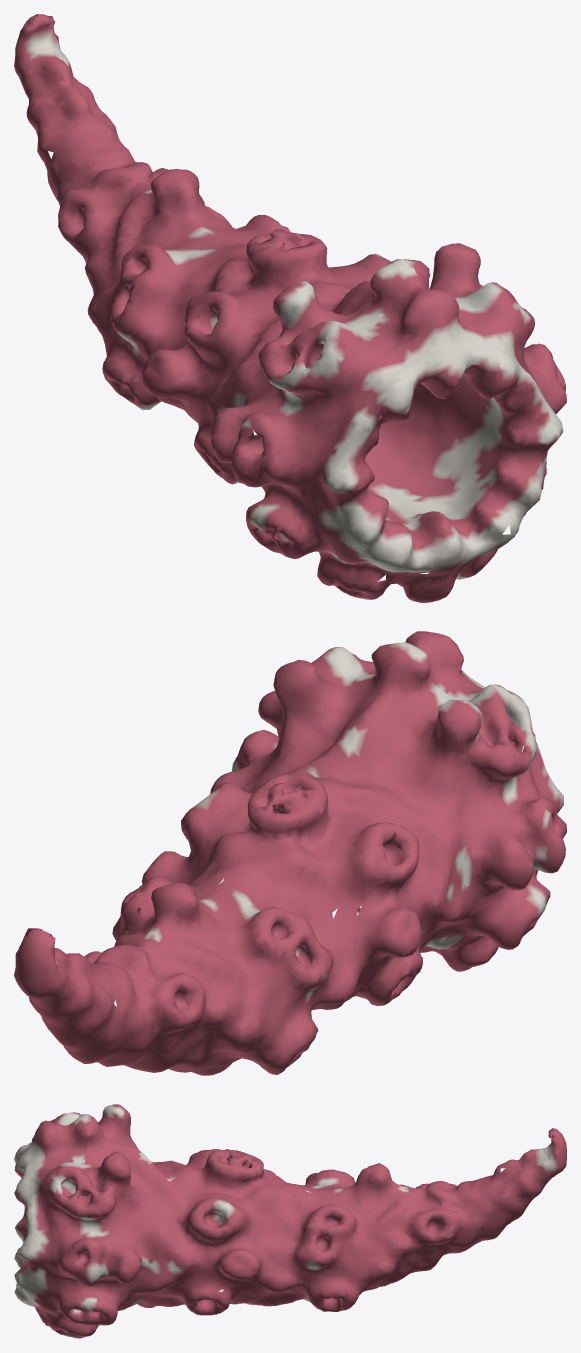
Rendered from mon3d.glb.
3 renders of one model, top to bottom at view 1: azimuth 30°, elevation 25°; view 2: azimuth 150°, elevation 25°; view 3: azimuth 270°, elevation 25°, orthographic. The views are drawn at different scales.
Size of the model in its own units: 0.8766 by 0.8166 by 1.96.
